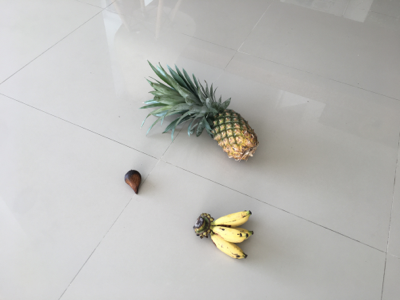banana: (192, 209, 254, 261)
pineapple: (140, 60, 259, 163)
snake fruit: (125, 170, 143, 196)
